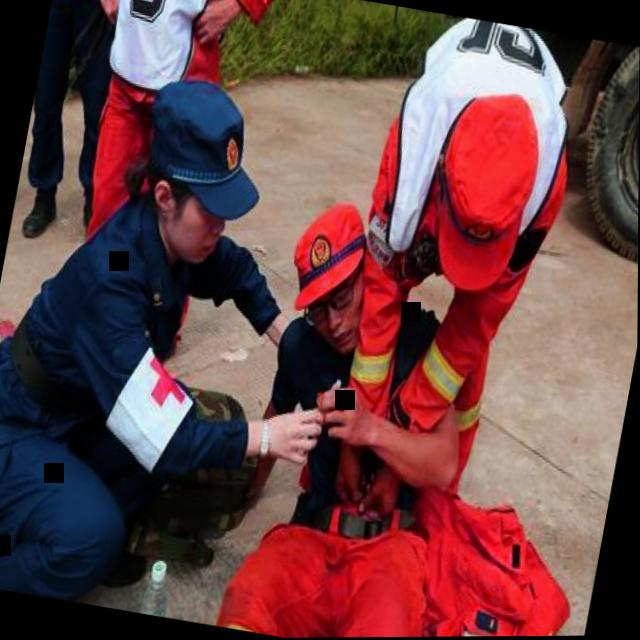Fall-Detected: (200, 148, 584, 639)
